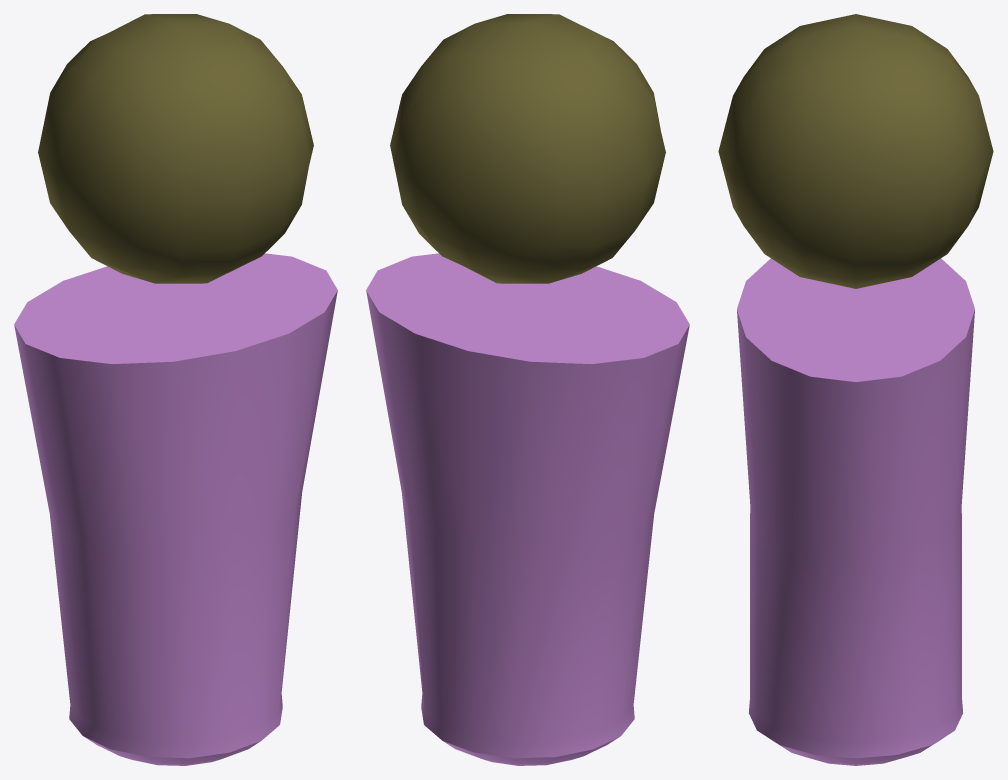
The model's file is Personagem6.fbx.
3 renders of one model, left to right at view 1: azimuth 30°, elevation 25°; view 2: azimuth 150°, elevation 25°; view 3: azimuth 270°, elevation 25°, orthographic.
Parts seen in each view (by area): view 1: Sphere.004; view 2: Sphere.004; view 3: Sphere.004.
Boxes of the visible parts, x1=… form: Sphere.004: x1=14, y1=14, x2=337, y2=765; Sphere.004: x1=366, y1=14, x2=689, y2=765; Sphere.004: x1=718, y1=14, x2=993, y2=765.
Size of the model in its own units: 268 by 618 by 213.
